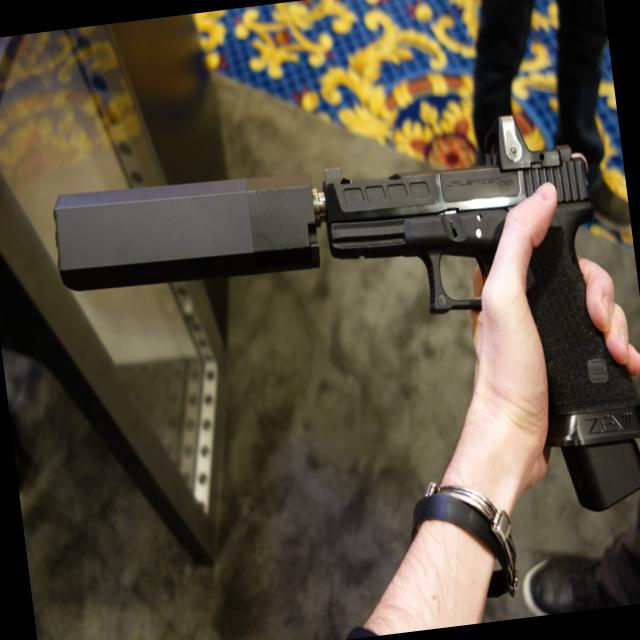handgun: (312, 100, 639, 539)
